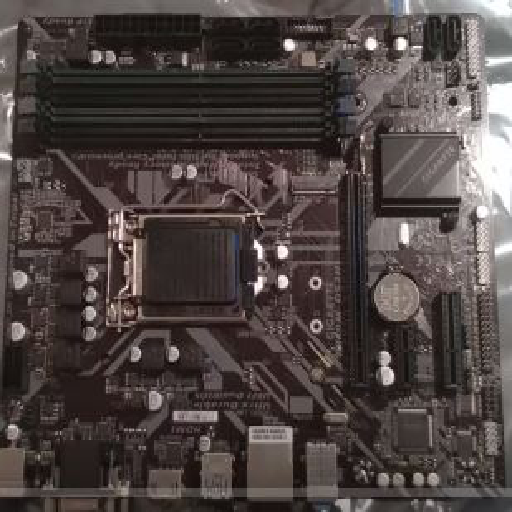CPU: (111, 209, 271, 328)
GPU: (340, 160, 371, 389)
MOTHERBOARD: (6, 13, 504, 503)
RAM: (15, 56, 360, 149)
SSD: (285, 173, 340, 196)
